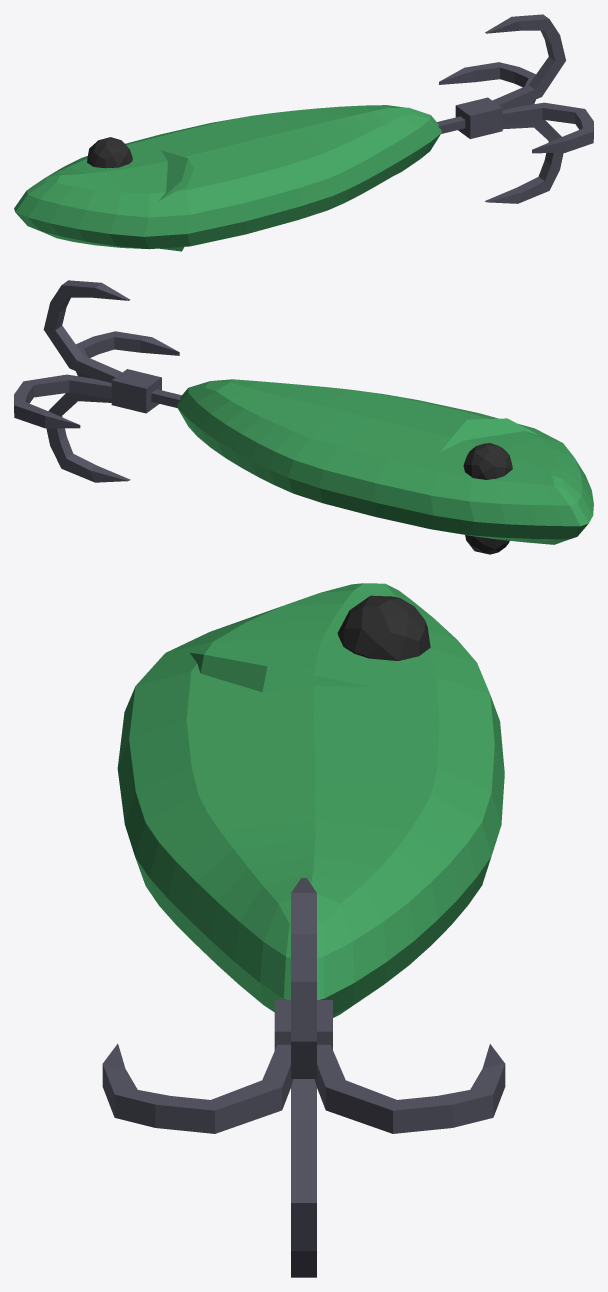
File: Lure_1.glb
3 views of the same model, one above another, from view 1: azimuth 30°, elevation 25°; view 2: azimuth 150°, elevation 25°; view 3: azimuth 270°, elevation 25° (orthographic). The views are drawn at different scales.
Parts seen in each view (by area): view 1: Lure_1; view 2: Lure_1; view 3: Lure_1.
Boxes of the visible parts, x1=… form: Lure_1: x1=14, y1=14, x2=593, y2=251; Lure_1: x1=14, y1=280, x2=593, y2=554; Lure_1: x1=102, y1=583, x2=505, y2=1277.
Bounding box in the file's own units: 1.87 × 0.6167 × 0.6167.
